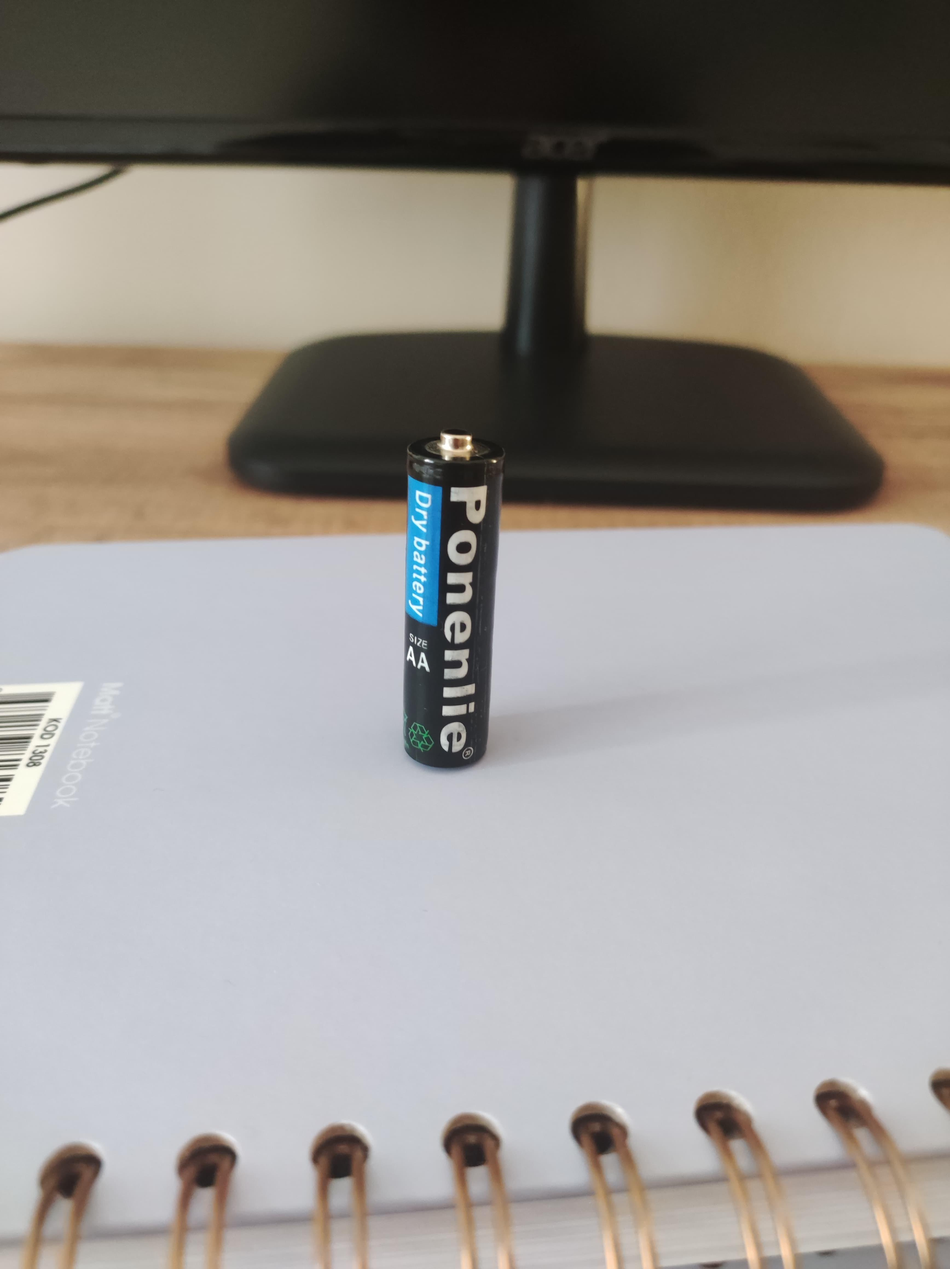AA: (401, 424, 508, 773)
